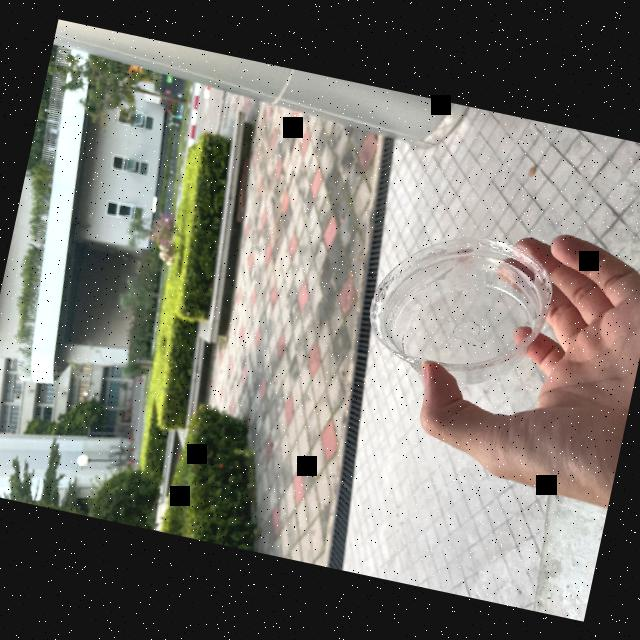plastic_cup_lid: (353, 216, 566, 412)
